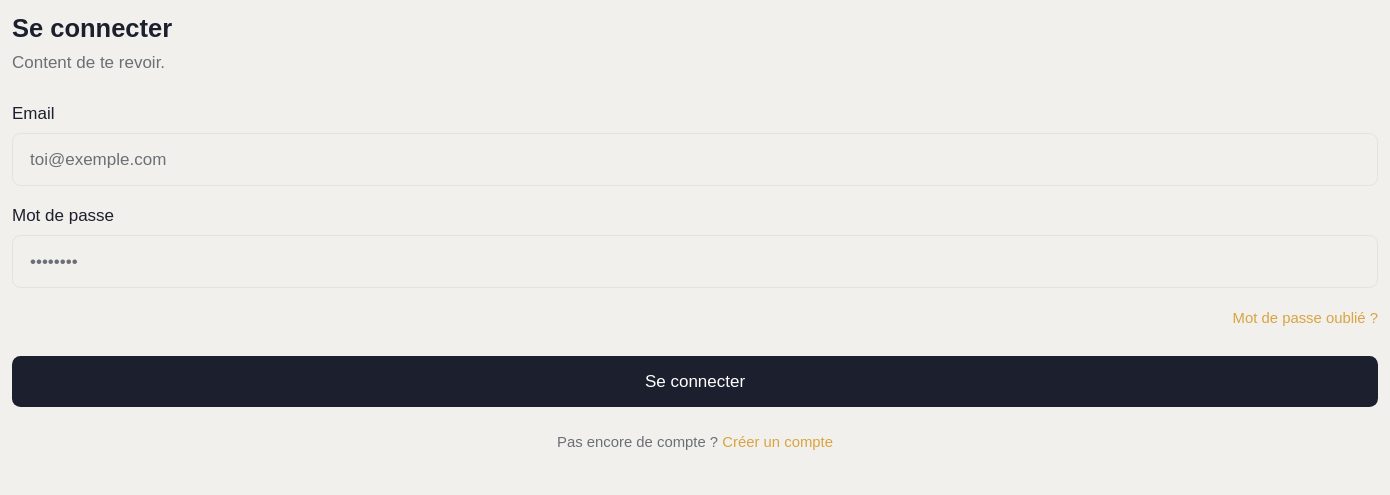
Test: Login › affiche une erreur si mot de passe trop court
Type "test@exemple.com" into the field with placeholder "toi@exemple.com". click: (695, 160)
box: [12,133,1378,186]
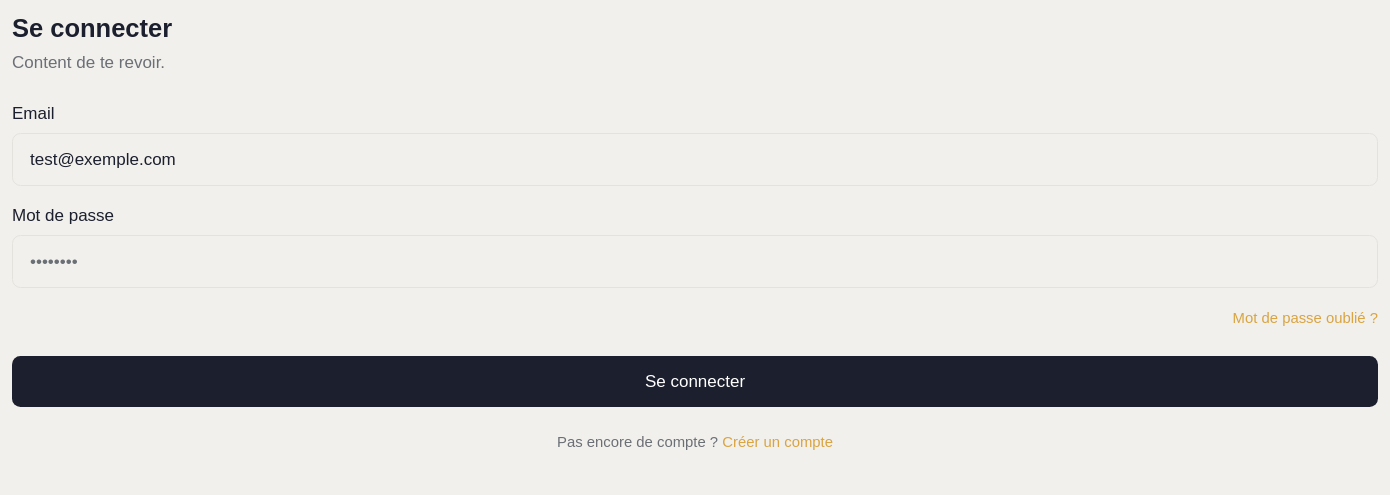
Type "123" into the password field with placeholder "••••••••". click: (695, 262)
box: [12,235,1378,288]
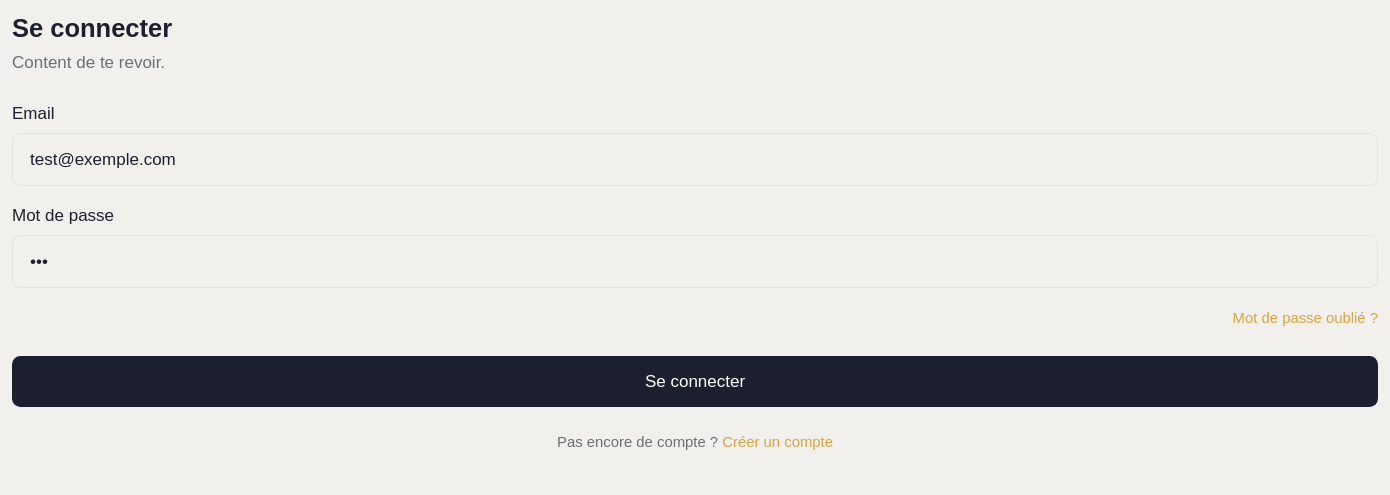
Click the button "Se connecter". click: click(695, 382)
box: [12,356,1378,407]
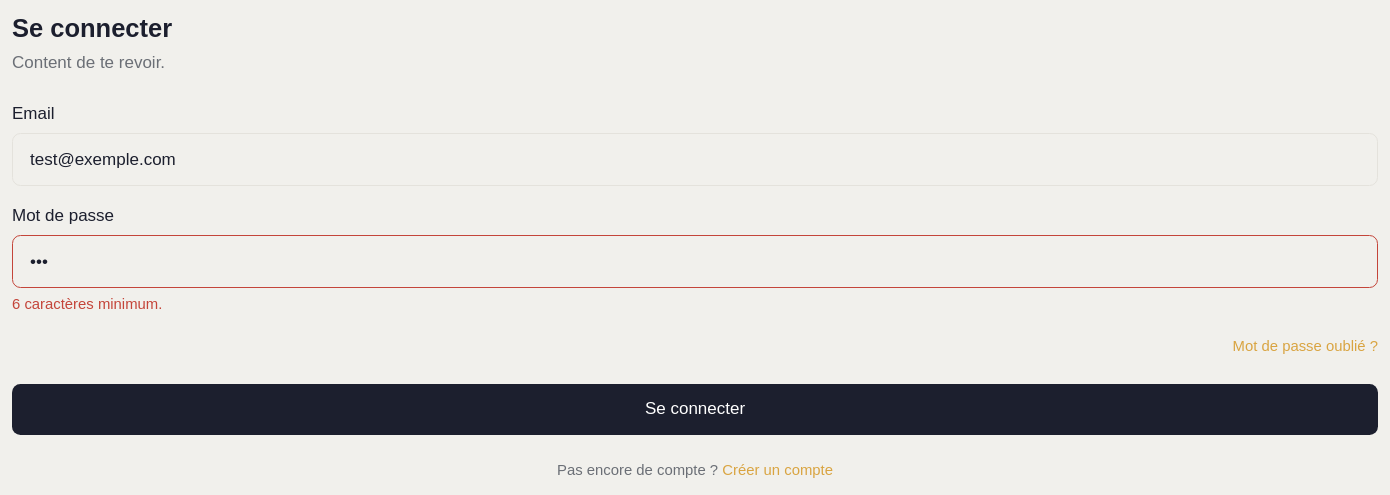
Expected: the text "6 caractères minimum." is shown, [12,296,162,312]
